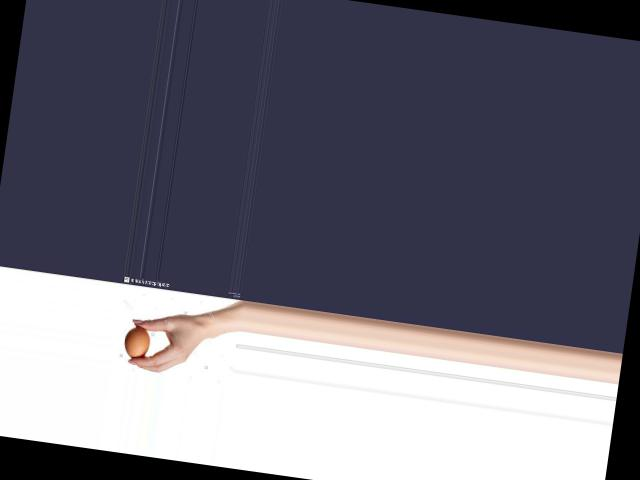egg: (123, 325, 152, 359)
